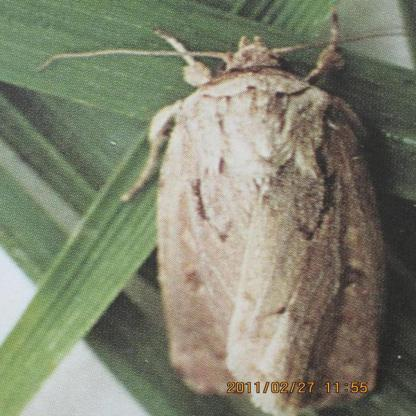armyworm: (79, 14, 416, 416)
